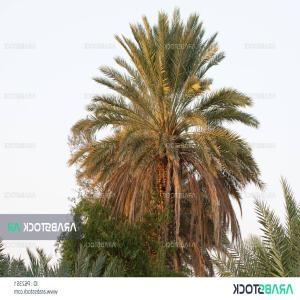palm tree: (65, 6, 267, 276)
